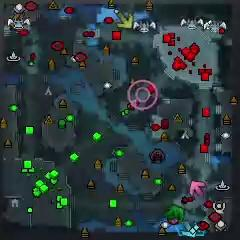x1: (189, 181, 205, 195)
x2: (116, 11, 133, 28)
x3: (181, 221, 199, 238)
x4: (165, 205, 184, 221)
